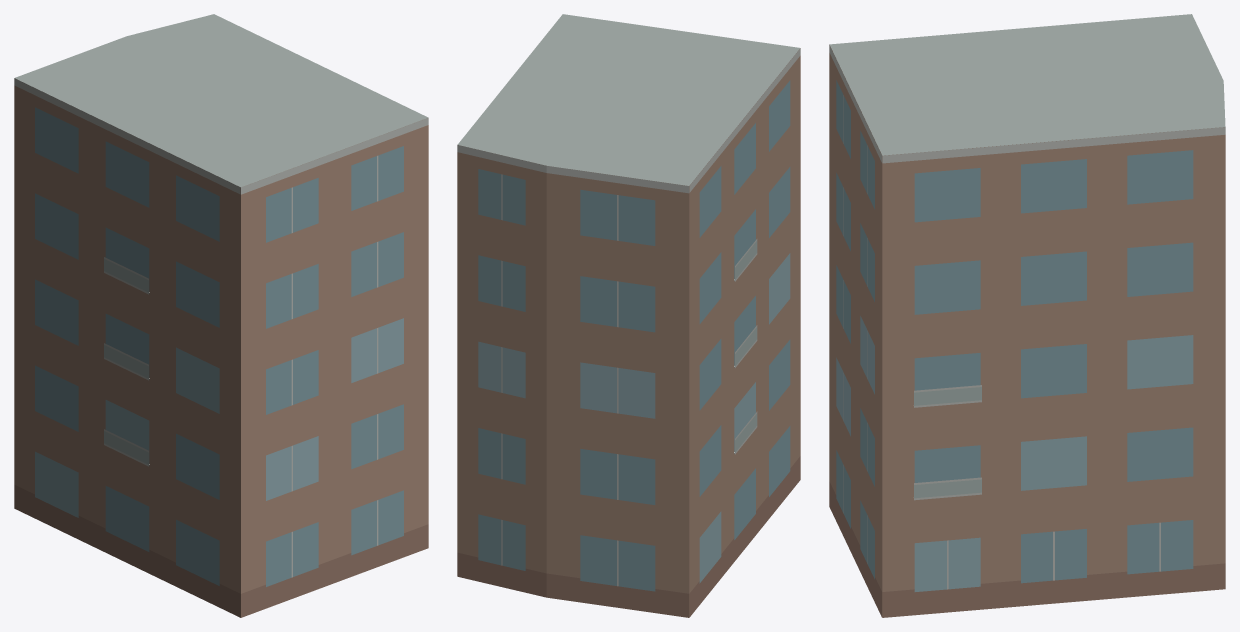
File: survey-upis-32917576.glb
The picture shows the model from 3 angles, left to right: view 1: azimuth 30°, elevation 25°; view 2: azimuth 150°, elevation 25°; view 3: azimuth 270°, elevation 25°; orthographic projection. The views are drawn at different scales.
Parts seen in each view (by area): view 1: survey-upis-32917576.tmp; view 2: survey-upis-32917576.tmp; view 3: survey-upis-32917576.tmp.
Part boxes in pixels (x1,y1,x2,y2): survey-upis-32917576.tmp: (14,14,428,617); survey-upis-32917576.tmp: (457,14,800,617); survey-upis-32917576.tmp: (829,14,1225,617).
Size of the model in its own units: 9.47 by 14.4 by 11.19.
